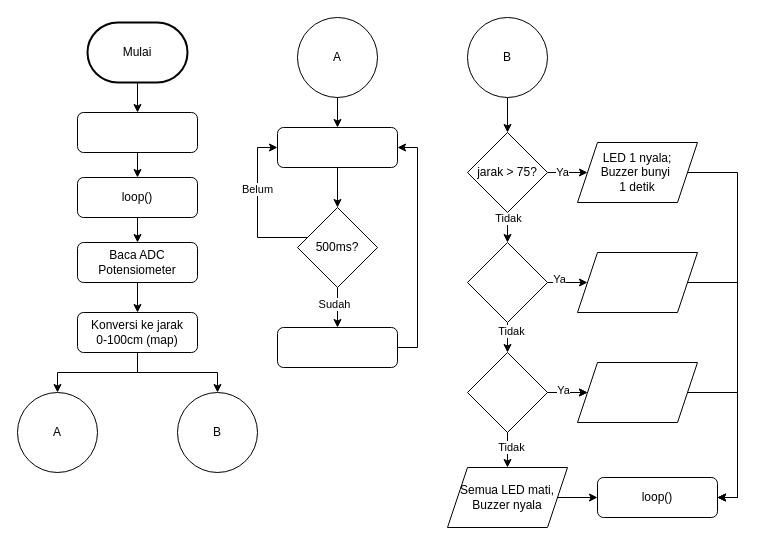
This 763x545 diagram has some shape labels left out. Each missing label, with the box of its shape:
Cek nilai millis(): (276, 126, 398, 168)
Inisialisasi Variabel dan PinMode: (76, 112, 198, 152)
jarak > 10 && <= 40?: (466, 352, 548, 432)
jarak > 40 && <= 75?: (466, 242, 548, 322)
LED 1&2 nyala; Buzzer bunyi 500 ms: (576, 252, 698, 312)
LED 1,2,3 nyala; Buzzer bunyi 250 ms: (576, 362, 698, 422)
Print Jarak & Reset Interval: (276, 326, 398, 368)
